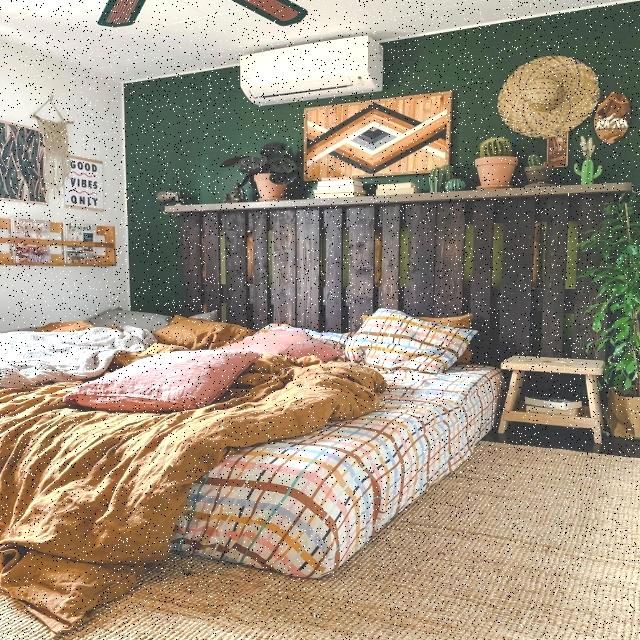bed: (0, 305, 493, 582)
